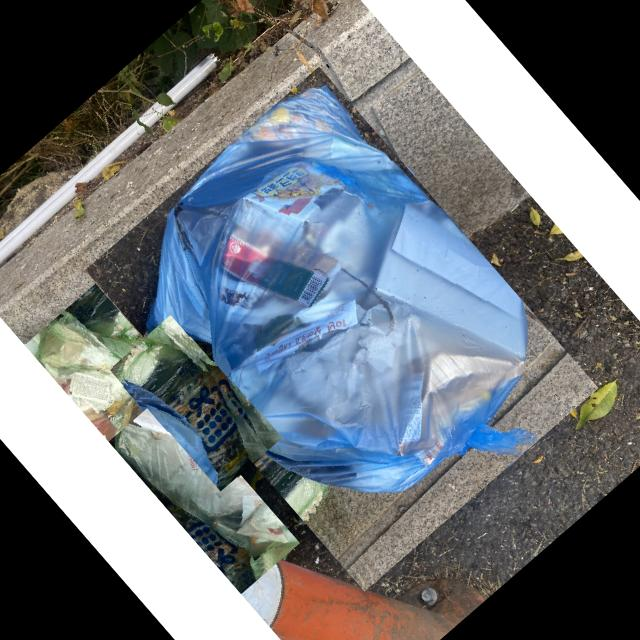general_trashbag: (116, 425, 298, 558), (118, 343, 248, 491), (36, 312, 145, 452)
other_trashbag: (146, 88, 533, 495)
